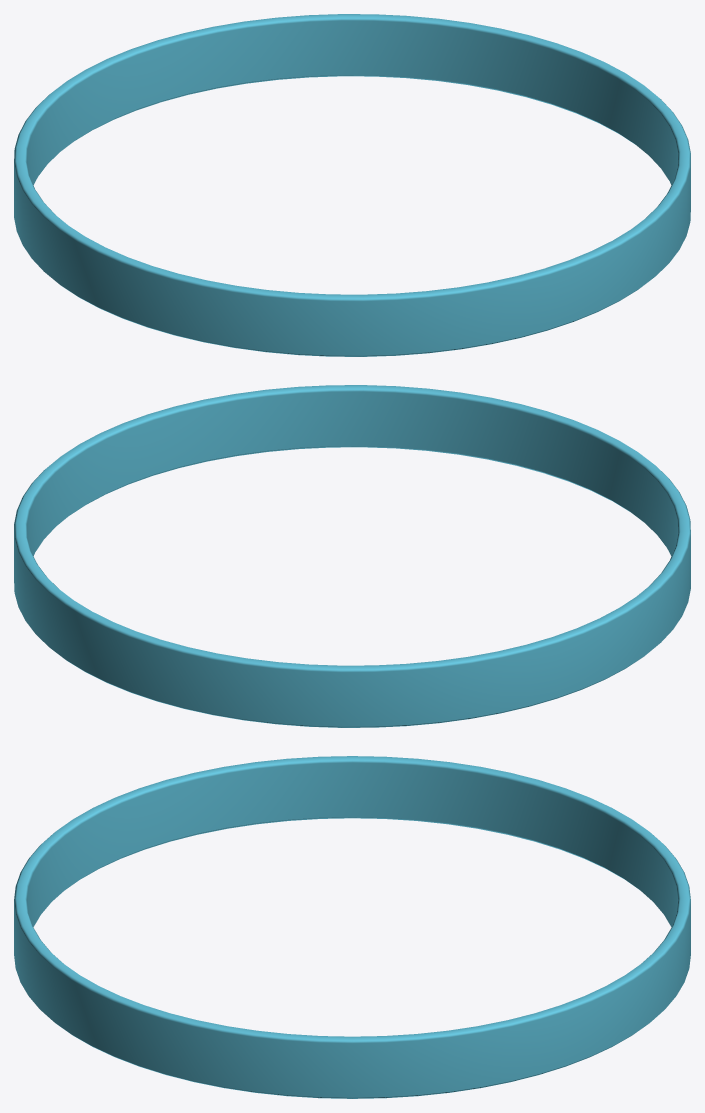
3 renders of one model, top to bottom at view 1: azimuth 30°, elevation 25°; view 2: azimuth 150°, elevation 25°; view 3: azimuth 270°, elevation 25°, orthographic.
Parts seen in each view (by area): view 1: seal_body; view 2: seal_body; view 3: seal_body.
Boxes of the visible parts, x1,y1,x2,y2 form: seal_body: (14,14,690,356); seal_body: (14,385,690,727); seal_body: (14,756,690,1098).
Bounding box in the file's own units: 0.1651 × 0.0159 × 0.1651.
